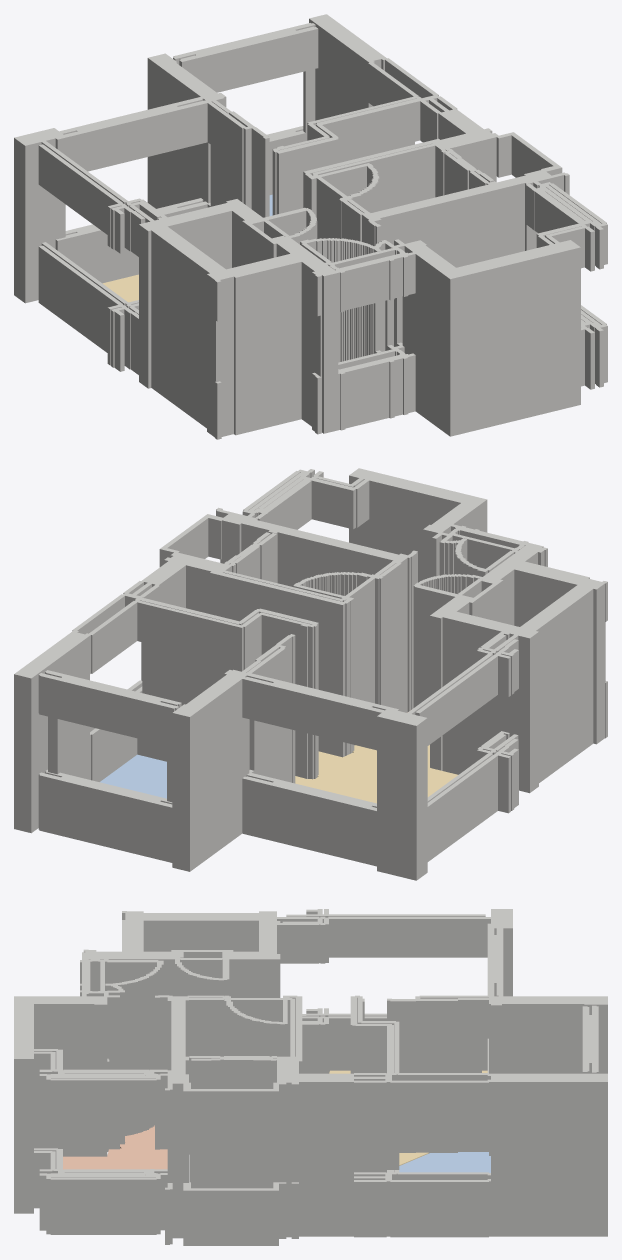
The picture shows the model from 3 angles, top to bottom: view 1: azimuth 30°, elevation 25°; view 2: azimuth 150°, elevation 25°; view 3: azimuth 270°, elevation 25°; orthographic projection.
Parts seen in each view (by area): view 1: walls, room:living:0; view 2: walls, room:living:0, room:bedroom:4; view 3: walls, room:kitchen:5, room:bedroom:4.
Boxes of the visible parts, x1,y1,x2,y2 form: walls: (14, 14, 607, 439); room:living:0: (102, 274, 138, 302); walls: (14, 468, 607, 880); room:living:0: (295, 745, 457, 803); room:bedroom:4: (100, 754, 166, 798); walls: (14, 909, 607, 1245); room:kitchen:5: (63, 1125, 167, 1169); room:bedroom:4: (399, 1152, 490, 1172).
Bounding box in the file's own units: 7.08 × 2.8 × 9.75.
